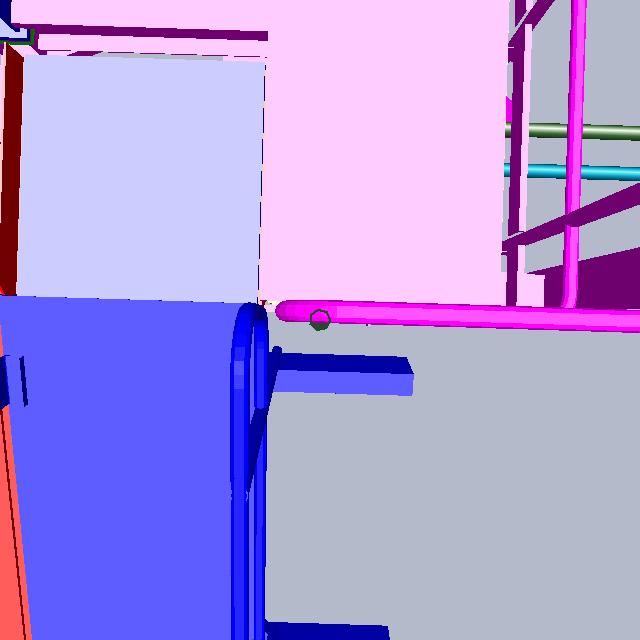Poste: (309, 306, 338, 339)
Soporte: (488, 235, 640, 327)
